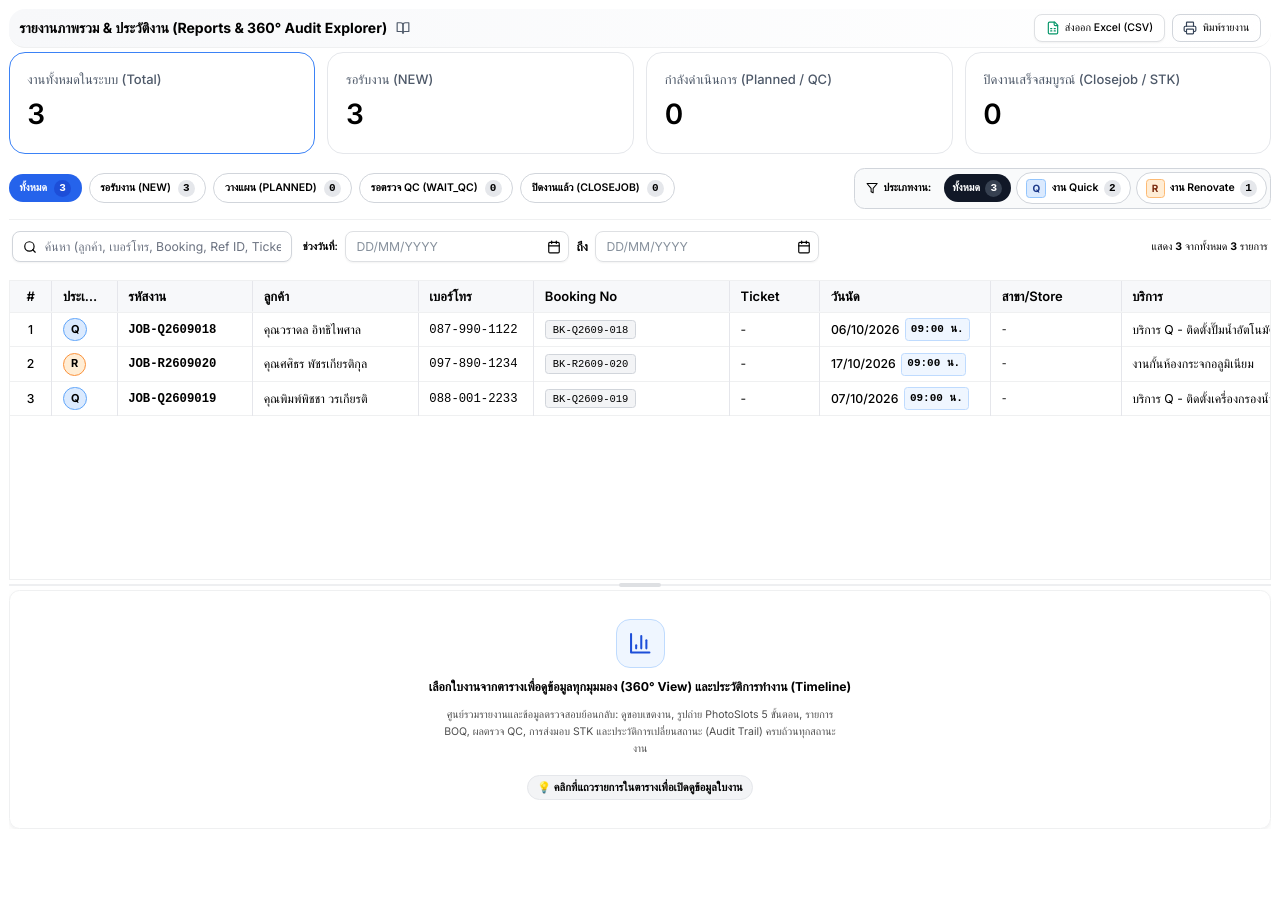
it: ReportsPage - Comprehensive 360° Job Report & Audit Explorer › opens 360° detail view with tabs when selecting a row
Note: Click on the first row (JOB-Q2609018)
Click the text "JOB-Q2609018". click: (172, 330)
box: [128,323,216,337]
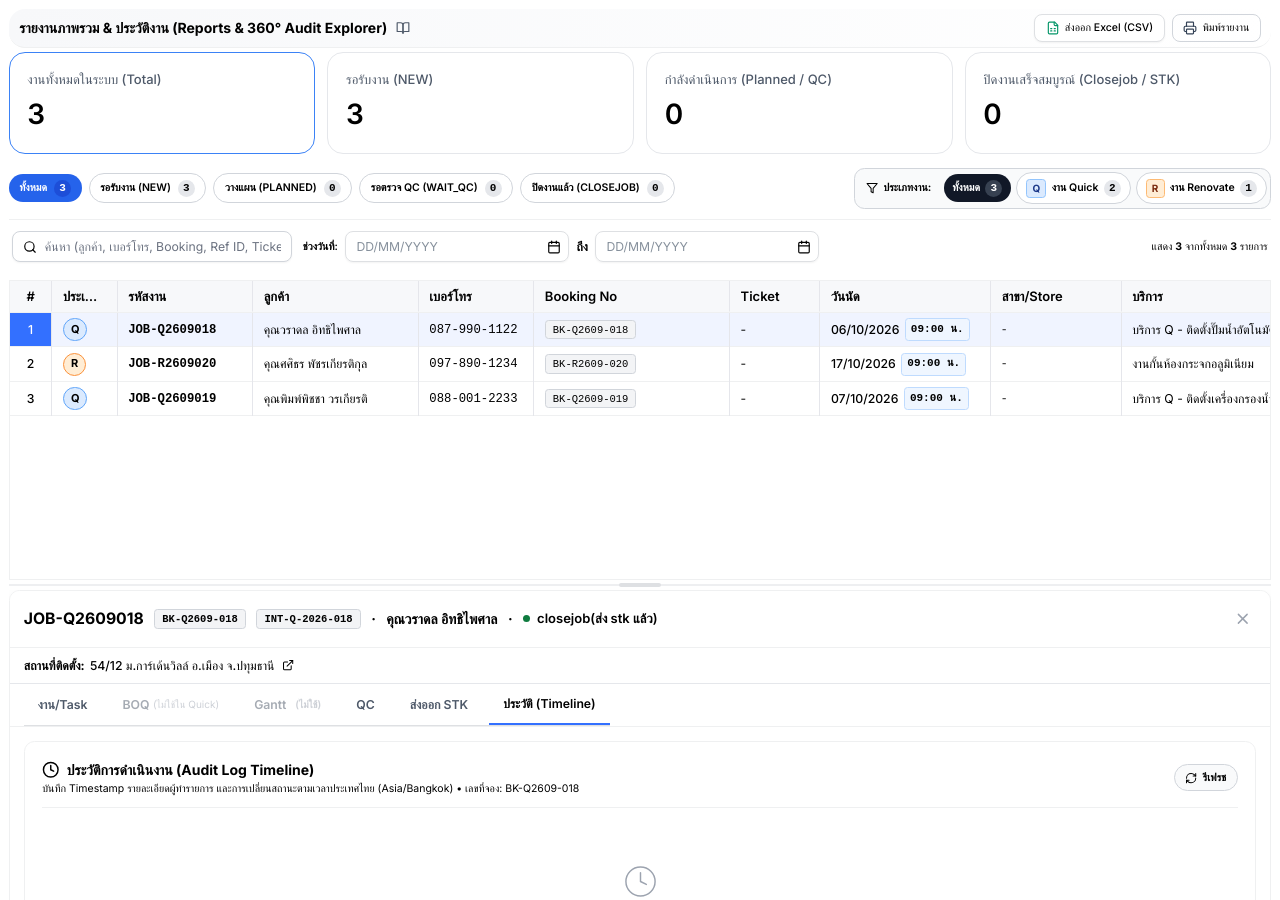
expect the tab "งาน/Task" is shown: met, box [24,685,102,724]
expect the tab "ส่งออก STK" is shown: met, box [396,685,482,724]
expect the tab "ประวัติ (Timeline)" is shown: met, box [489,684,610,724]
